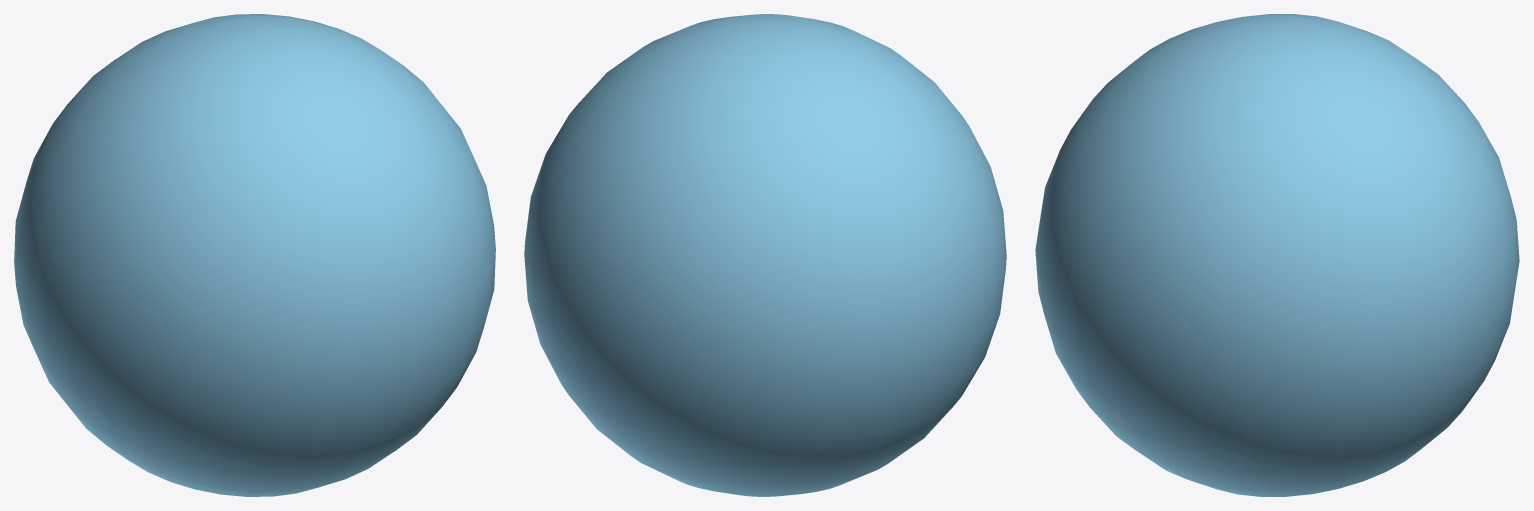
Rendered from orb.glb.
3 views of the same model, side by side, from view 1: azimuth 30°, elevation 25°; view 2: azimuth 150°, elevation 25°; view 3: azimuth 270°, elevation 25° (orthographic).
Visible parts, largest first — view 1: Sphere; view 2: Sphere; view 3: Sphere.
Boxes of the visible parts, <box> form: Sphere: <box>14,14,495,496</box>; Sphere: <box>524,14,1006,496</box>; Sphere: <box>1035,14,1519,496</box>.
Size of the model in its own units: 27.23 by 27.28 by 27.26.
